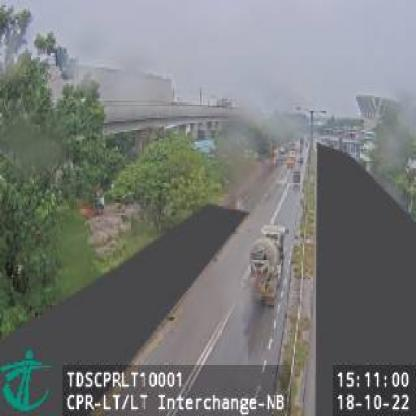Truck: (247, 223, 290, 309)
